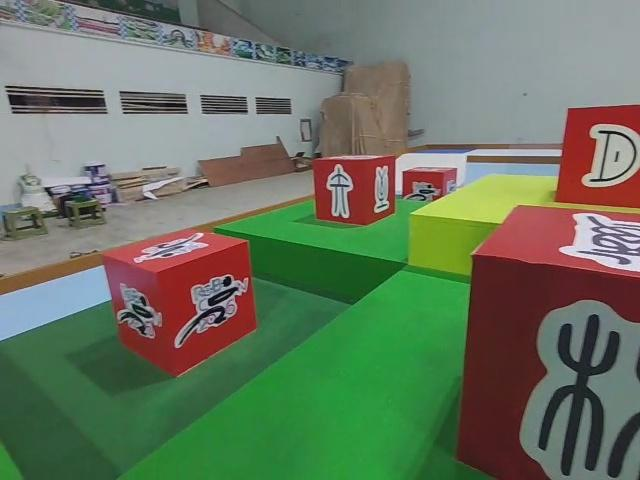R1: (103, 227, 257, 374), (403, 165, 455, 208)
R2 Fake: (450, 203, 640, 480), (313, 151, 395, 226)
R2 Real: (549, 100, 640, 209)
